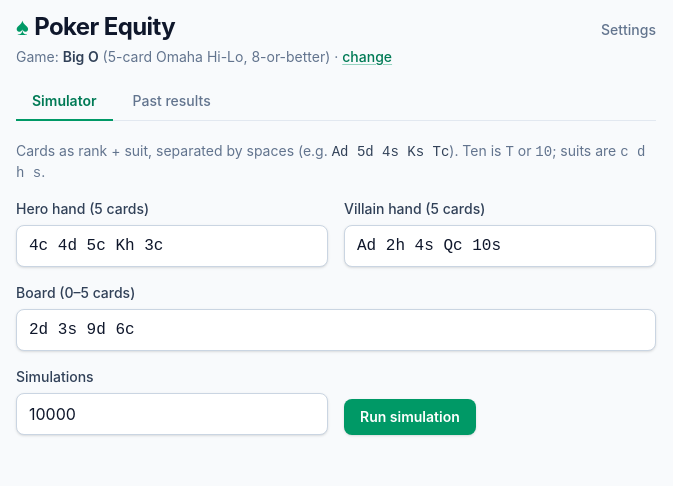
Test: rejects a hero hand without exactly 5 cards
This screenshot has width=673, height=486.
Step 1. Replace the text in the field labelled "Hero hand (5 cards)" with "Ad 5d 4s Ks" → (172, 246), box [16,225,328,267]
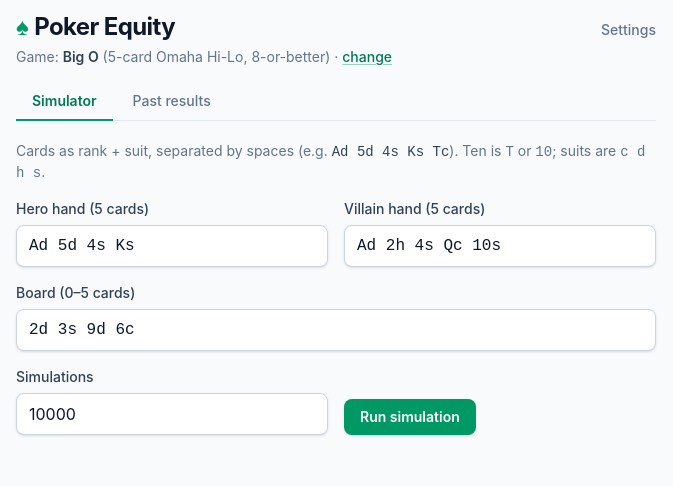
Step 2. Click the button "Run simulation" → click(410, 417), box [344,399,476,435]
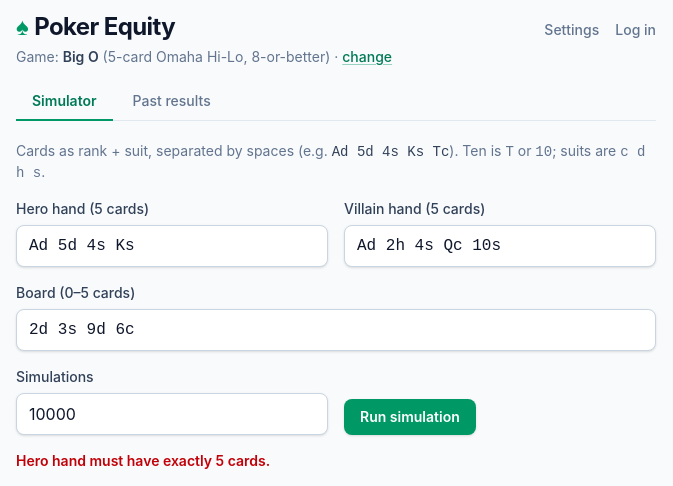
expect the text "Hero hand must have exactly 5 cards." is shown: met, box [16,452,270,469]
